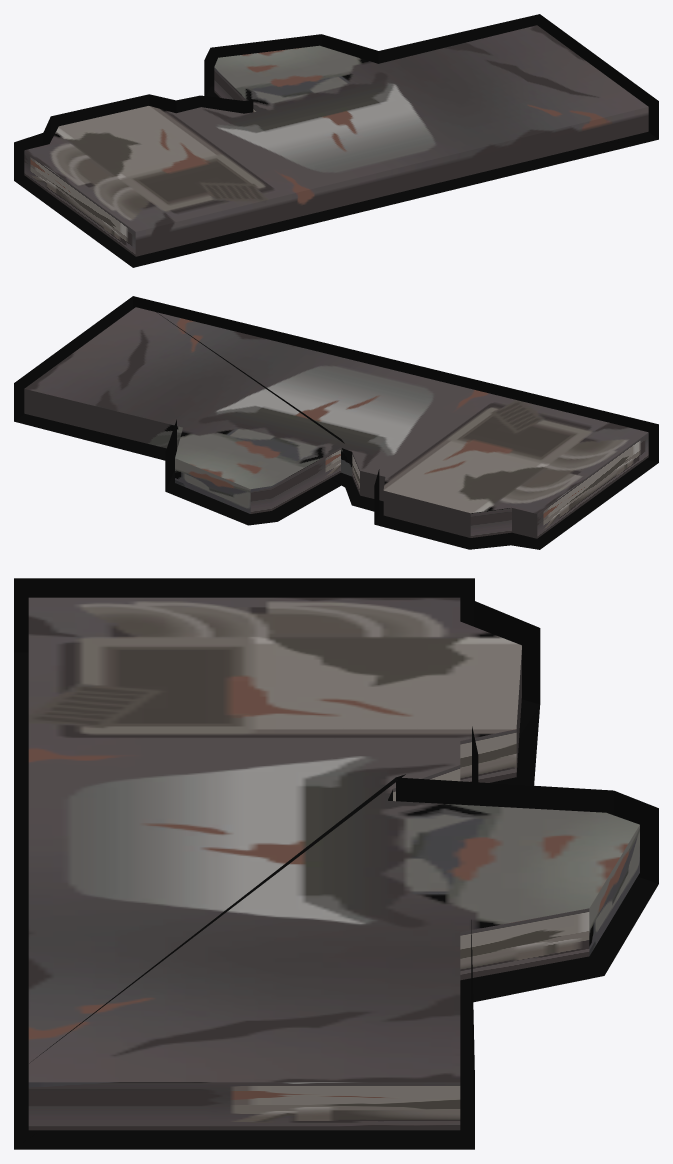
The model's file is Building_AncientTableSmithingElectric_Things_Building_Ancient_Workbenches_AncientTableSmithingElectric.glb.
3 views of the same model, one above another, from view 1: azimuth 30°, elevation 25°; view 2: azimuth 150°, elevation 25°; view 3: azimuth 270°, elevation 25° (orthographic). The views are drawn at different scales.
Visible parts, largest first — view 1: Body, Outline; view 2: Body, Outline; view 3: Body, Outline.
Part boxes in pixels (bbox=[...]): Body: bbox=[24, 25, 648, 256]; Outline: bbox=[14, 14, 658, 267]; Body: bbox=[24, 307, 648, 538]; Outline: bbox=[14, 296, 658, 549]; Body: bbox=[28, 597, 639, 1130]; Outline: bbox=[14, 578, 658, 1149].
Bounding box in the file's own units: 2.92 × 0.2461 × 1.6.
2 materials, 1 textured.
